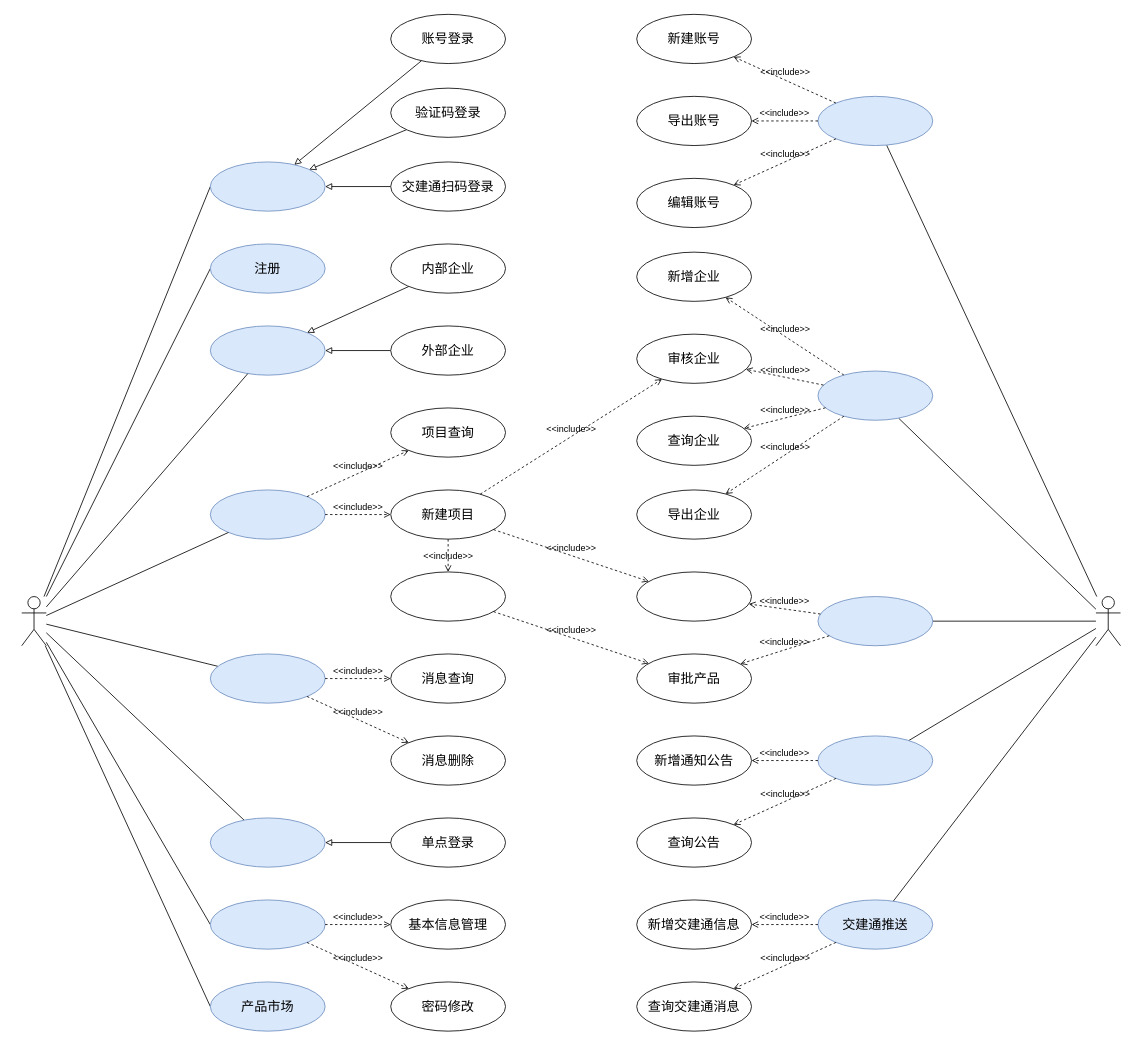
The diagram is 1137 pixels wide and 1046 high, and some of its shapes have lost their labels. Here are the shapes that lost their labels. From the top down, the centre of each, then its label:
At point 875,121: "账号管理".
At point 267,186: "登录".
At point 267,350: "企业入驻".
At point 875,395: "企业审核".
At point 267,514: "项目管理".
At point 448,596: "关联产品".
At point 694,596: "查询产品".
At point 33,621: "普通用户".
At point 875,621: "产品审核".
At point 1108,621: "管理员".
At point 267,678: "消息通知".
At point 875,760: "发通知公告".
At point 267,842: "访问产品应用".
At point 267,924: "个人中心".
